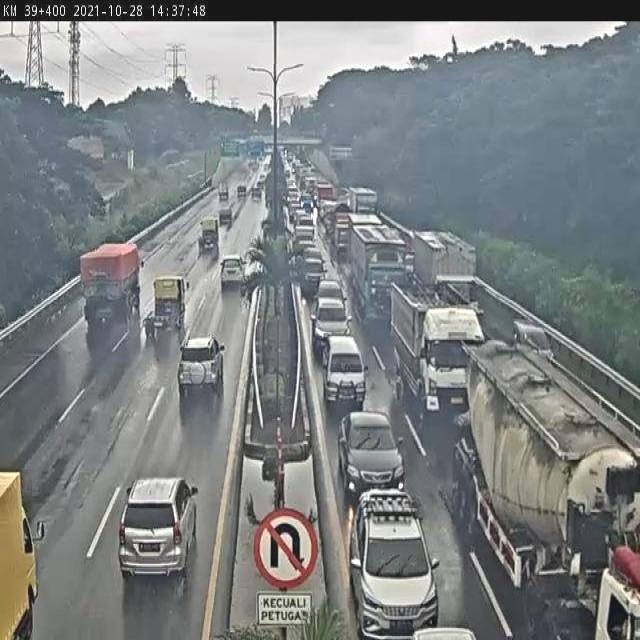Car: (347, 488, 442, 638), (117, 474, 199, 578), (336, 408, 405, 504), (310, 295, 356, 359), (512, 320, 555, 363), (297, 256, 331, 296), (313, 277, 348, 309), (218, 252, 248, 288), (298, 246, 326, 266), (299, 192, 315, 213), (218, 205, 233, 226), (251, 186, 261, 201), (237, 184, 246, 199), (257, 180, 265, 192)
Truck: (451, 334, 640, 640), (388, 278, 488, 416), (0, 466, 45, 640), (410, 226, 484, 319), (346, 223, 411, 322), (78, 240, 146, 327), (141, 275, 190, 337), (347, 212, 382, 267), (329, 200, 353, 242), (198, 218, 220, 258), (347, 187, 378, 214), (334, 224, 356, 259), (323, 200, 341, 233), (316, 182, 336, 206), (302, 175, 318, 197), (217, 181, 230, 201)
Van: (323, 333, 369, 408), (177, 333, 225, 402)
